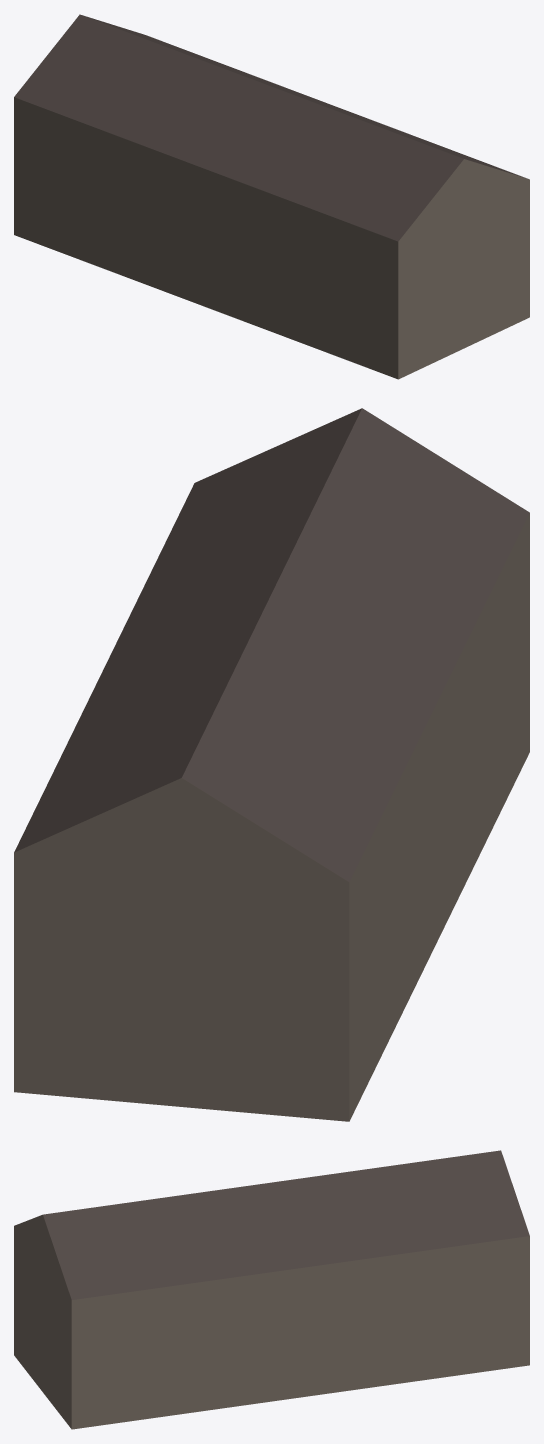
3 renders of one model, top to bottom at view 1: azimuth 30°, elevation 25°; view 2: azimuth 150°, elevation 25°; view 3: azimuth 270°, elevation 25°, orthographic. The views are drawn at different scales.
Parts seen in each view (by area): view 1: HP-w1435252841; view 2: HP-w1435252841; view 3: HP-w1435252841.
Part boxes in pixels (left/top/right/bottom): HP-w1435252841: left=14, top=14, right=529, bottom=379; HP-w1435252841: left=14, top=408, right=529, bottom=1121; HP-w1435252841: left=14, top=1150, right=529, bottom=1429.
Bounding box in the file's own units: 13.78 × 8.25 × 21.69.
